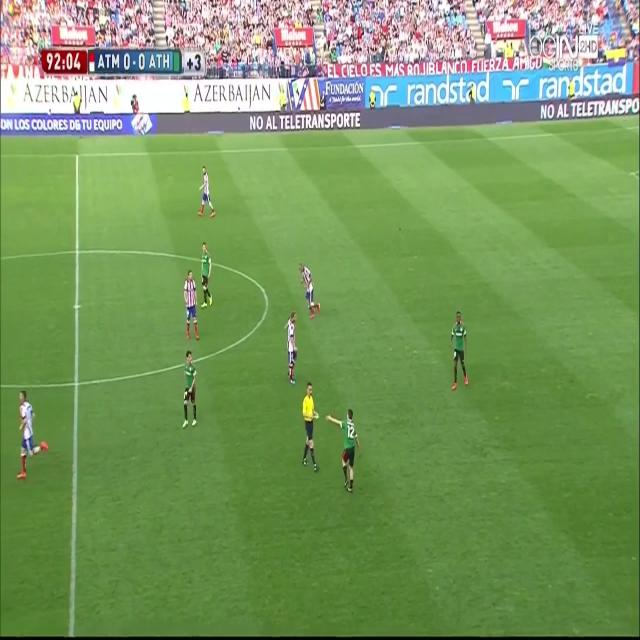Player: (325, 404, 363, 496), (16, 383, 50, 483), (450, 312, 470, 396), (180, 351, 199, 435), (298, 260, 322, 320), (197, 162, 219, 221), (183, 268, 200, 342), (285, 310, 299, 387), (199, 240, 213, 311)
Referee: (299, 378, 323, 476)
